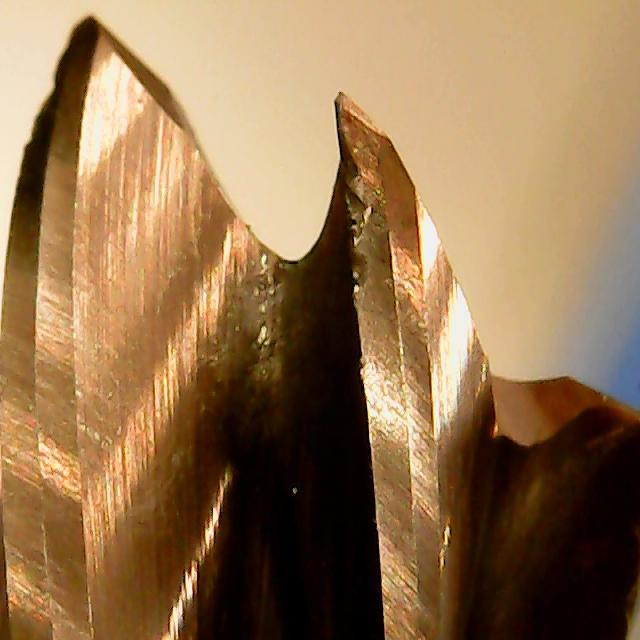Tool-wear-class-1: (306, 83, 472, 347)
